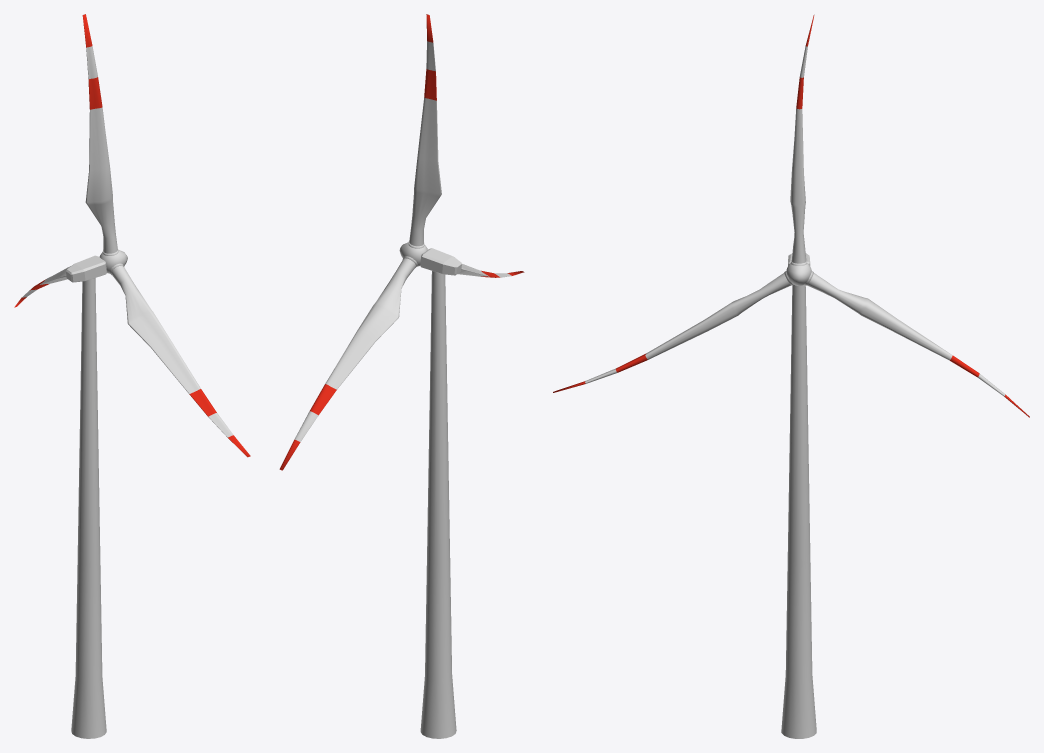
The model's file is radar.glb.
3 views of the same model, side by side, from view 1: azimuth 30°, elevation 25°; view 2: azimuth 150°, elevation 25°; view 3: azimuth 270°, elevation 25° (orthographic).
Visible parts, largest first — view 1: Tower_lod1, Blade1_lod1; view 2: Tower_lod1, Blade1_lod1; view 3: Tower_lod1, Blade1_lod1.
Boxes of the visible parts, x1,y1,x2,y2 form: Tower_lod1: (66,255,106,738); Blade1_lod1: (14,14,250,457); Tower_lod1: (420,248,461,738); Blade1_lod1: (279,14,524,470); Tower_lod1: (781,253,816,738); Blade1_lod1: (553,14,1029,417).
Bounding box in the file's own units: 19.53 × 209 × 126.
